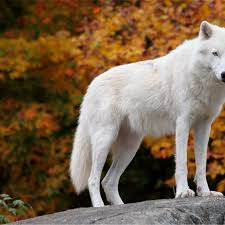Lobo: (79, 22, 225, 177)
